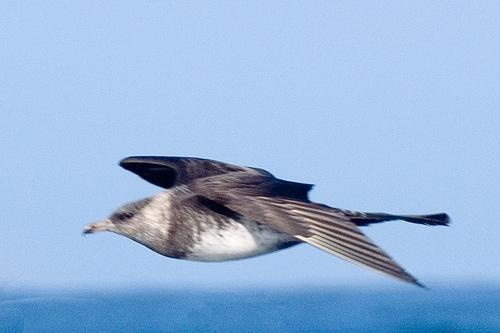bird: (81, 154, 451, 293)
